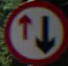Two way: (5, 6, 60, 53)
